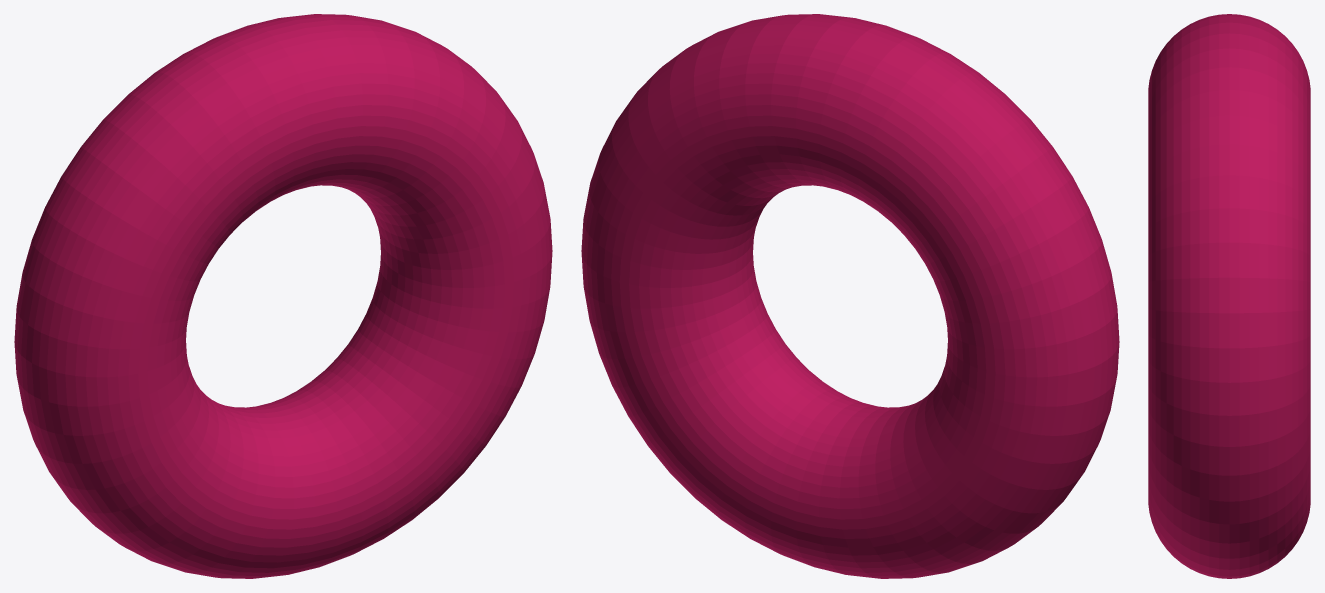
3 renders of one model, left to right at view 1: azimuth 30°, elevation 25°; view 2: azimuth 150°, elevation 25°; view 3: azimuth 270°, elevation 25°, orthographic. The views are drawn at different scales.
Parts seen in each view (by area): view 1: world; view 2: world; view 3: world.
Boxes of the visible parts, x1=… form: world: x1=14, y1=14, x2=552, y2=578; world: x1=581, y1=14, x2=1119, y2=578; world: x1=1148, y1=14, x2=1310, y2=578.
Bounding box in the file's own units: 34.67 × 34.6 × 9.98.
